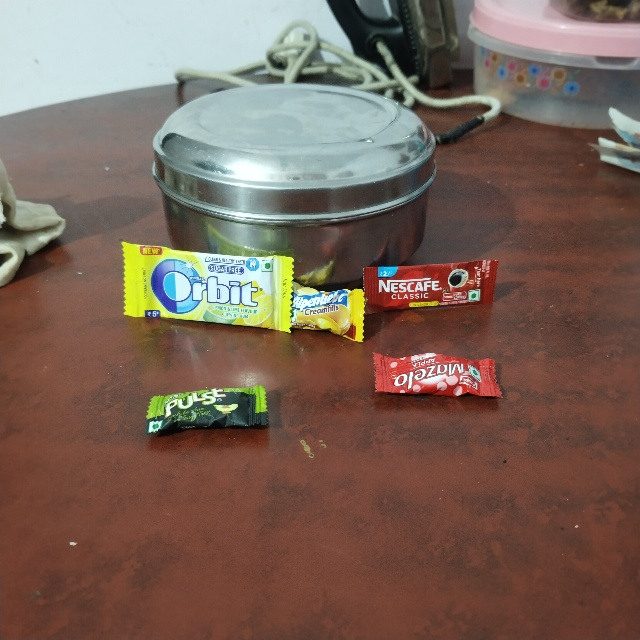Alpenlibe Creamfills: (292, 277, 371, 334)
Mazelo: (373, 351, 501, 395)
Nescafe Coffee: (362, 264, 497, 313)
Orbit: (119, 240, 297, 319)
Pulse: (143, 392, 273, 435)
